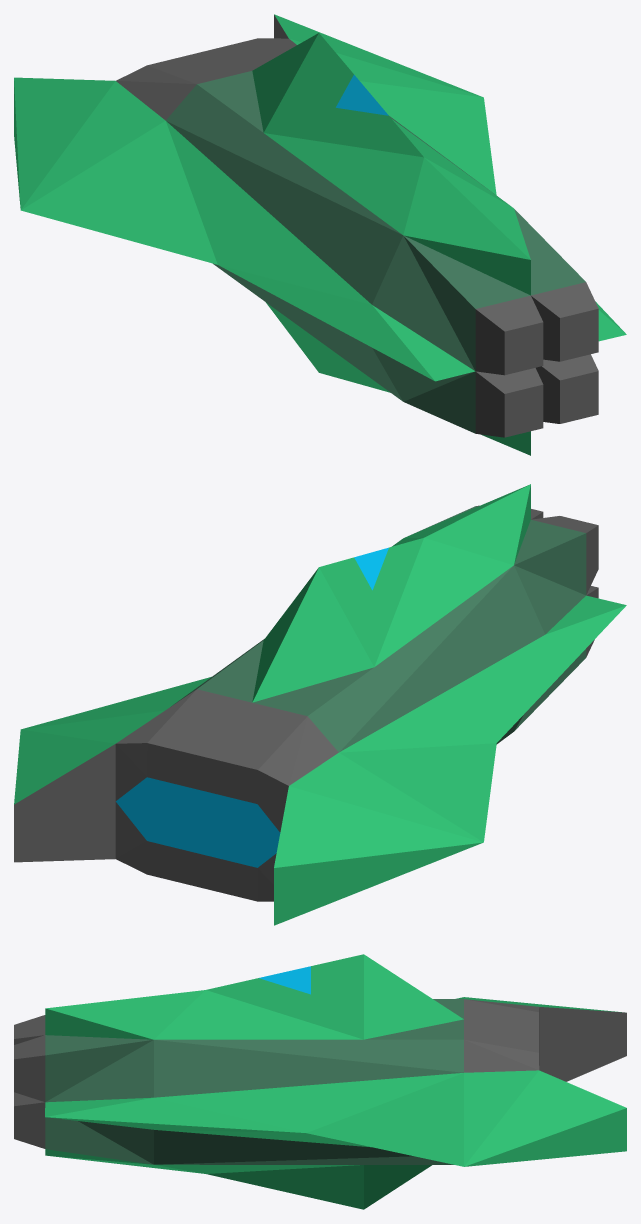
The model's file is tri_frigate_launcher.fbx.
The picture shows the model from 3 angles, top to bottom: view 1: azimuth 30°, elevation 25°; view 2: azimuth 150°, elevation 25°; view 3: azimuth 270°, elevation 25°; orthographic projection. The views are drawn at different scales.
Visible parts, largest first — view 1: tri_frigate_launcher; view 2: tri_frigate_launcher; view 3: tri_frigate_launcher.
Boxes of the visible parts, <box> form: tri_frigate_launcher: <box>14,14,626,455</box>; tri_frigate_launcher: <box>14,484,626,925</box>; tri_frigate_launcher: <box>14,954,626,1209</box>.
Size of the model in its own units: 26.07 by 18.28 by 39.75.
1 material, 1 textured.
